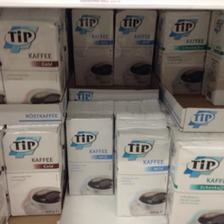Kaffee: (0, 8, 64, 100), (113, 124, 171, 218), (0, 125, 60, 215), (166, 139, 222, 223), (64, 98, 112, 194), (158, 9, 210, 95), (112, 6, 156, 86), (71, 7, 113, 84)
